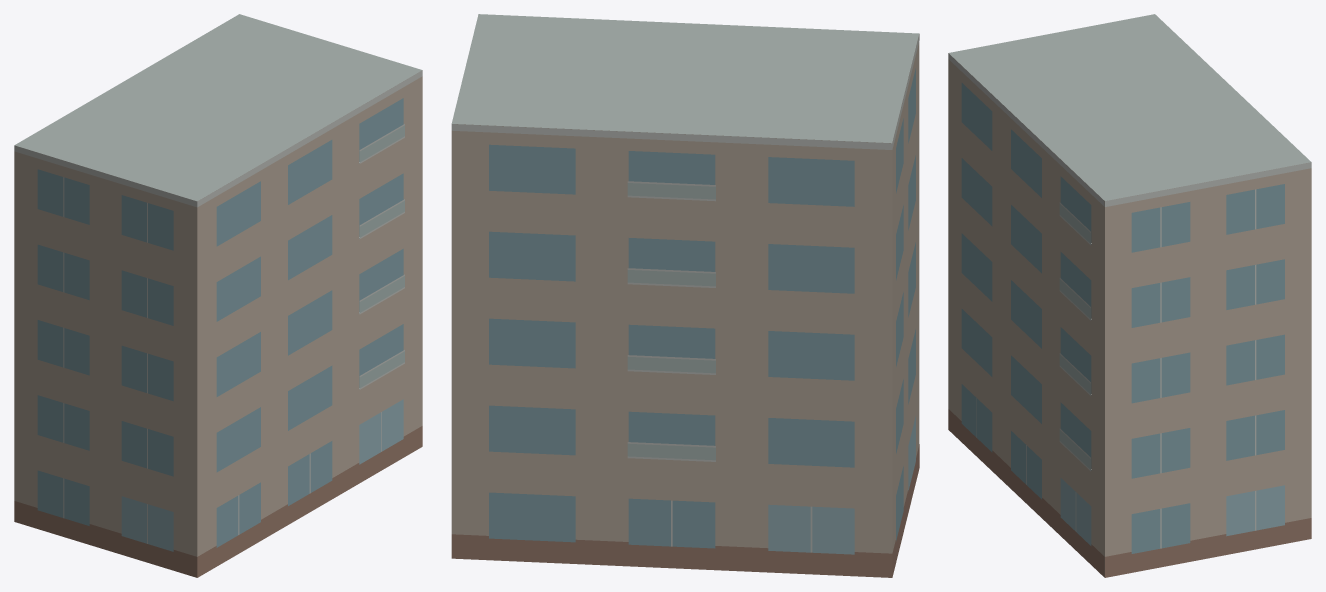
File: residential-5b1e7ba2-e9d1-4908-bf5a-276a40e5ed69.glb
3 views of the same model, side by side, from view 1: azimuth 30°, elevation 25°; view 2: azimuth 150°, elevation 25°; view 3: azimuth 270°, elevation 25° (orthographic). The views are drawn at different scales.
Visible parts, largest first — view 1: residential-5b1e7ba2-e9d1-4908-bf5a-276a40e5ed69.tmp; view 2: residential-5b1e7ba2-e9d1-4908-bf5a-276a40e5ed69.tmp; view 3: residential-5b1e7ba2-e9d1-4908-bf5a-276a40e5ed69.tmp.
Boxes of the visible parts, x1,y1,x2,y2 form: residential-5b1e7ba2-e9d1-4908-bf5a-276a40e5ed69.tmp: [14, 14, 422, 577]; residential-5b1e7ba2-e9d1-4908-bf5a-276a40e5ed69.tmp: [451, 14, 919, 577]; residential-5b1e7ba2-e9d1-4908-bf5a-276a40e5ed69.tmp: [948, 14, 1311, 577].
Size of the model in its own units: 16.26 by 15.25 by 13.34.
